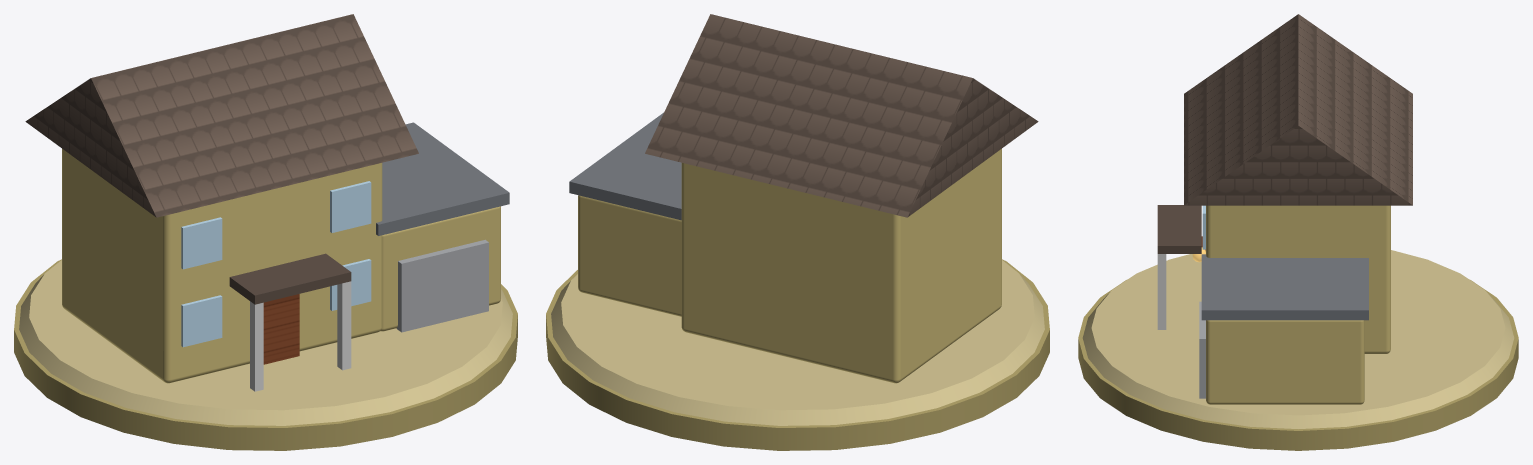
Rendered from tier-09-family-home.glb.
3 renders of one model, left to right at view 1: azimuth 30°, elevation 25°; view 2: azimuth 150°, elevation 25°; view 3: azimuth 270°, elevation 25°, orthographic. The views are drawn at different scales.
Parts seen in each view (by area): view 1: matte, roof, gloss, wood; view 2: matte, roof; view 3: matte, roof.
Part boxes in pixels (x1,y1,x2,y2): matte: [14, 122, 517, 450]; roof: [25, 14, 418, 217]; gloss: [181, 181, 371, 347]; wood: [263, 294, 299, 364]; matte: [546, 112, 1049, 450]; roof: [645, 14, 1038, 217]; matte: [1078, 205, 1518, 450]; roof: [1184, 14, 1412, 205].
Size of the model in its own units: 1 by 0.675 by 1.
5 materials, 2 textured.
